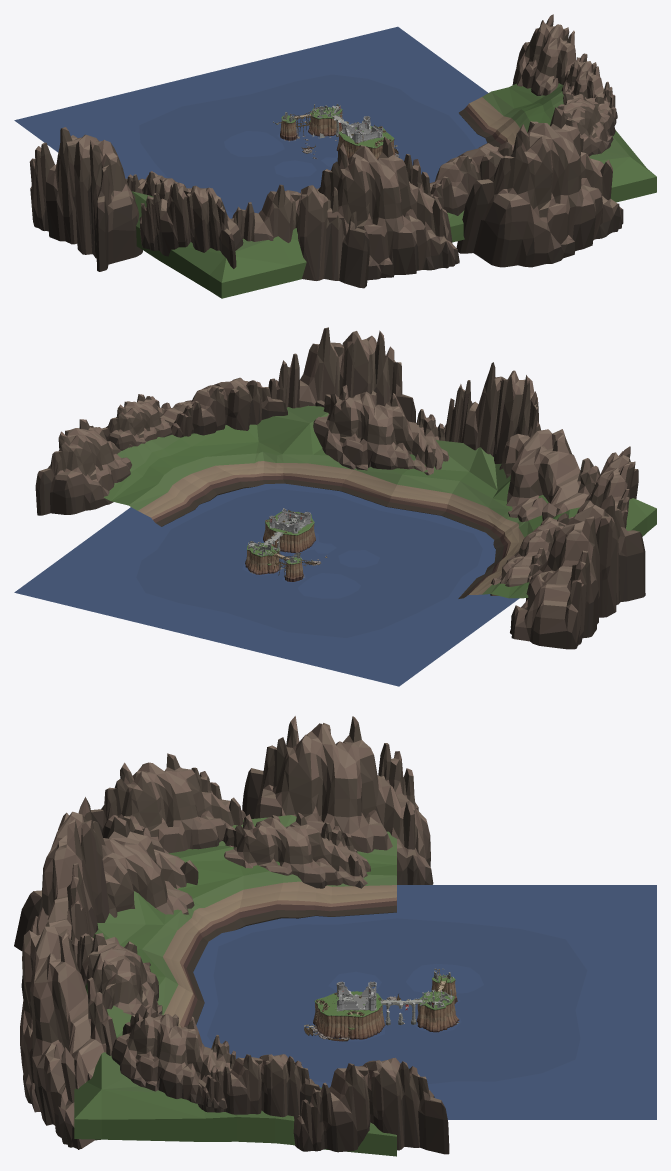
Rendered from narrowRuins.glb.
3 renders of one model, top to bottom at view 1: azimuth 30°, elevation 25°; view 2: azimuth 150°, elevation 25°; view 3: azimuth 270°, elevation 25°, orthographic. The views are drawn at different scales.
Parts seen in each view (by area): view 1: sea, Mball.018, hills, Mball.027, Mball.009, Mball.024, Mball.005, Mball.019, Mball.025, Mball.020, CliffBegin.002, Mball.017 (+1 smaller); view 2: sea, hills, Mball.009, Mball.025, Mball.018, Mball.024, Mball.019, Mball.027, Mball.020, Mball.017, Mball.001, CliffBegin.002 (+1 smaller); view 3: sea, hills, Mball.009, Mball.018, Mball.019, Mball.005, Mball.020, Mball.001, Mball.027, Mball.024, Mball.017, Mball.025 (+1 smaller).
Part boxes in pixels (box(x1,y1,x2,y2)): sea: box(14, 26, 487, 218); Mball.018: box(456, 107, 623, 267); hills: box(131, 83, 656, 298); Mball.027: box(317, 136, 459, 280); Mball.009: box(29, 127, 142, 271); Mball.024: box(230, 184, 369, 288); Mball.005: box(139, 181, 243, 268); Mball.019: box(512, 14, 587, 95); Mball.025: box(430, 142, 513, 215); Mball.020: box(557, 91, 617, 156); CliffBegin.002: box(280, 107, 395, 159); Mball.017: box(561, 53, 616, 124); sea: box(14, 483, 519, 686); hills: box(103, 405, 656, 598); Mball.009: box(510, 495, 645, 649); Mball.025: box(313, 385, 449, 475); Mball.018: box(268, 327, 415, 422); Mball.024: box(499, 421, 600, 521); Mball.019: box(35, 419, 132, 515); Mball.027: box(444, 362, 538, 463); Mball.020: box(160, 377, 287, 437); Mball.017: box(101, 394, 172, 450); Mball.001: box(490, 513, 573, 595); CliffBegin.002: box(245, 511, 315, 581); sea: box(193, 885, 656, 1119); hills: box(74, 815, 396, 1156); Mball.009: box(242, 716, 433, 884); Mball.018: box(20, 907, 116, 1149); Mball.019: box(293, 1057, 449, 1154); Mball.005: box(91, 753, 246, 853); Mball.020: box(111, 1006, 235, 1108); Mball.001: box(222, 812, 370, 888); Mball.027: box(21, 797, 112, 998); Mball.024: box(14, 816, 198, 950); Mball.017: box(198, 1054, 322, 1122); Mball.025: box(77, 933, 162, 1017).
Size of what is drawn, in the model's own units: 576 by 155 by 484.
